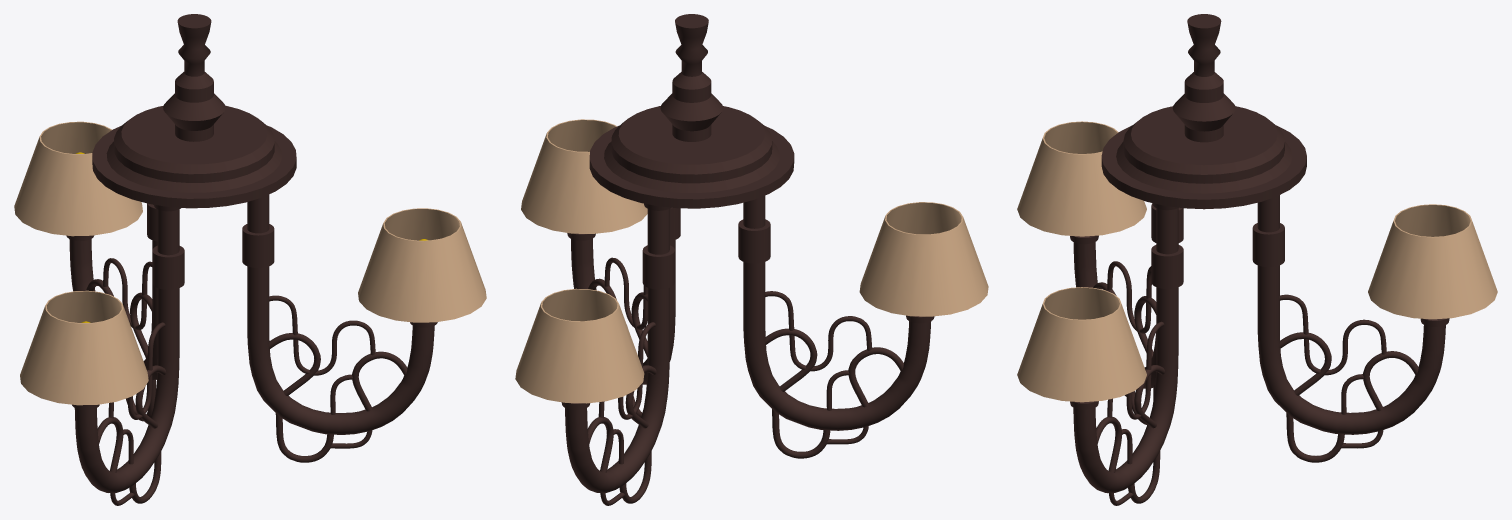
File: Lustre1_1.fbx
3 views of the same model, side by side, from view 1: azimuth 30°, elevation 25°; view 2: azimuth 150°, elevation 25°; view 3: azimuth 270°, elevation 25° (orthographic).
Visible parts, largest first — view 1: pCylinder903, pPipe156, pPipe155, pCylinder1057, pPipe157, pCylinder1070, pCylinder1082, pCylinder1062, pCylinder1063, pCylinder1047, pCylinder1061, pCylinder1031; view 2: pCylinder903, pPipe157, pPipe155, pCylinder1070, pCylinder1082, pPipe156, pCylinder1057, pCylinder1067, pCylinder1068, pCylinder1062, pCylinder1071, pCylinder1073 (+1 smaller); view 3: pCylinder903, pPipe157, pPipe156, pCylinder1082, pPipe155, pCylinder1057, pCylinder1070, pCylinder1042, pCylinder1051, pCylinder1052, pCylinder1049, pCylinder1047.
Boxes of the visible parts, left/top/right/bottom form: pCylinder903: left=92, top=14, right=296, bottom=208; pPipe156: left=358, top=208, right=486, bottom=322; pPipe155: left=20, top=290, right=148, bottom=405; pCylinder1057: left=242, top=194, right=434, bottom=434; pPipe157: left=14, top=121, right=142, bottom=236; pCylinder1070: left=74, top=204, right=184, bottom=492; pCylinder1082: left=69, top=203, right=157, bottom=384; pCylinder1062: left=293, top=320, right=375, bottom=375; pCylinder1063: left=269, top=333, right=320, bottom=395; pCylinder1047: left=352, top=351, right=407, bottom=411; pCylinder1061: left=275, top=413, right=333, bottom=462; pCylinder1031: left=97, top=417, right=123, bottom=472; pCylinder903: left=589, top=14, right=794, bottom=208; pPipe157: left=515, top=288, right=644, bottom=403; pPipe155: left=859, top=202, right=988, bottom=316; pCylinder1070: left=738, top=195, right=931, bottom=430; pCylinder1082: left=565, top=203, right=674, bottom=492; pPipe156: left=521, top=119, right=647, bottom=233; pCylinder1057: left=571, top=207, right=680, bottom=384; pCylinder1067: left=789, top=316, right=870, bottom=371; pCylinder1068: left=765, top=328, right=815, bottom=391; pCylinder1062: left=604, top=257, right=647, bottom=329; pCylinder1071: left=848, top=347, right=903, bottom=407; pCylinder1073: left=772, top=409, right=828, bottom=458; pCylinder903: left=1101, top=14, right=1306, bottom=209; pPipe157: left=1368, top=204, right=1497, bottom=319; pPipe156: left=1017, top=287, right=1146, bottom=402; pCylinder1082: left=1252, top=195, right=1445, bottom=434; pPipe155: left=1017, top=121, right=1146, bottom=236; pCylinder1057: left=1073, top=203, right=1183, bottom=493; pCylinder1070: left=1073, top=203, right=1183, bottom=388; pCylinder1042: left=1304, top=320, right=1386, bottom=375; pCylinder1051: left=1279, top=332, right=1331, bottom=395; pCylinder1052: left=1363, top=351, right=1418, bottom=410; pCylinder1049: left=1286, top=413, right=1344, bottom=462; pCylinder1047: left=1096, top=417, right=1122, bottom=472.
Size of the model in its own units: 52.96 by 49.35 by 48.78.
